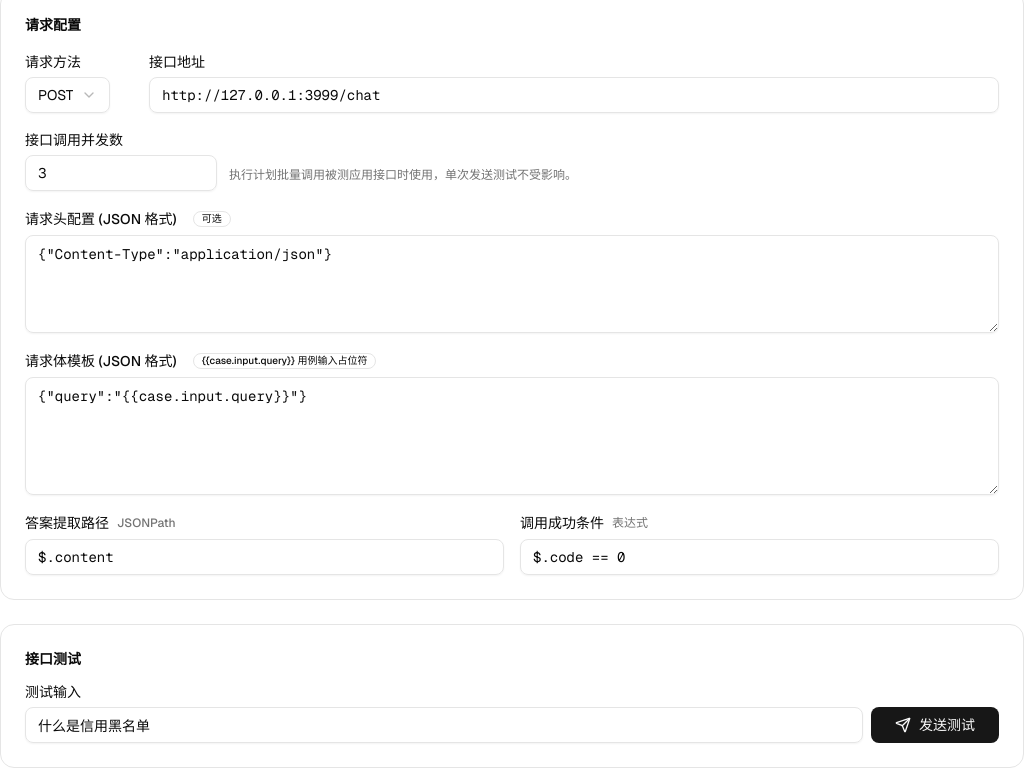
Test: AppProtocolPage › renders case.input.query before sending a protocol test request
(page scrolled)
Step 1. Replace the text in the field with placeholder "输入测试 query..." below "测试输入" with "台湾和中国是什么关系" → (444, 725), box [25, 707, 863, 743]
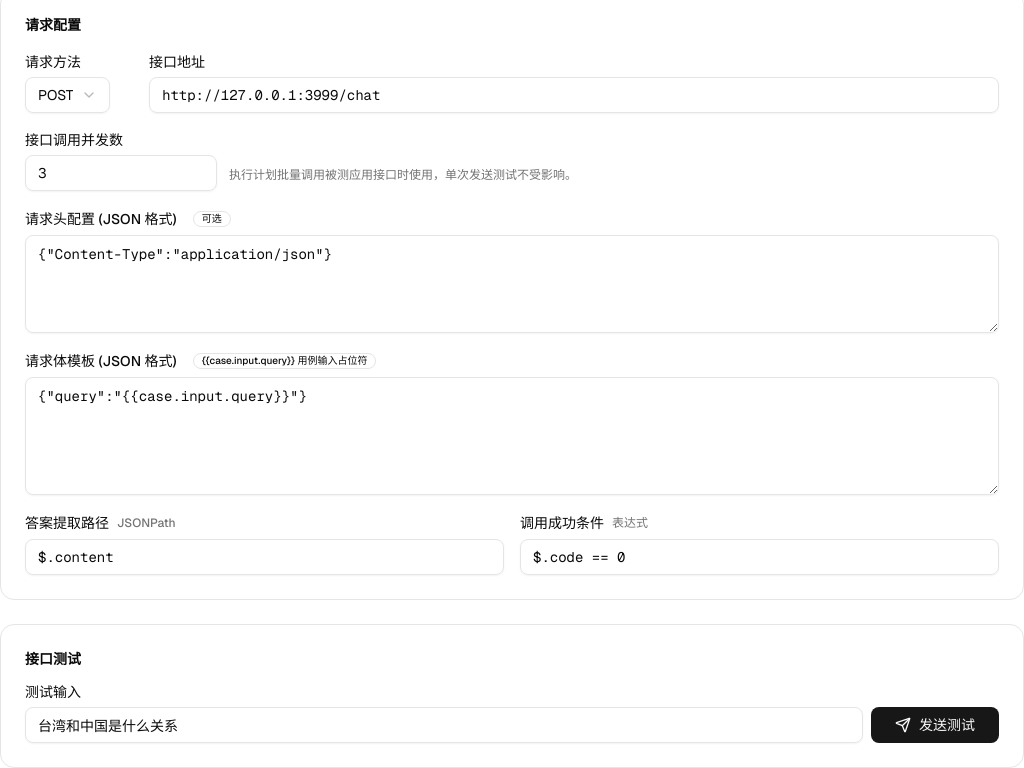
Step 2. Click the button "发送测试" → (935, 725), box [871, 707, 999, 743]
(page scrolled)
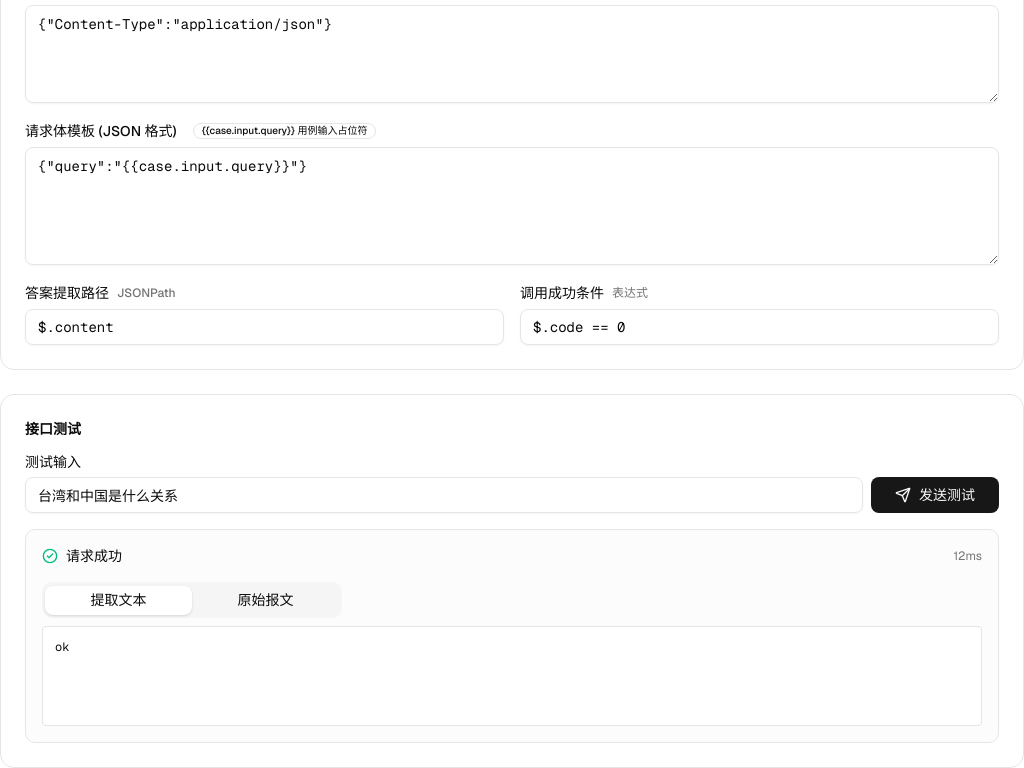
Expected: the text "ok" is shown, [42, 626, 982, 726]
